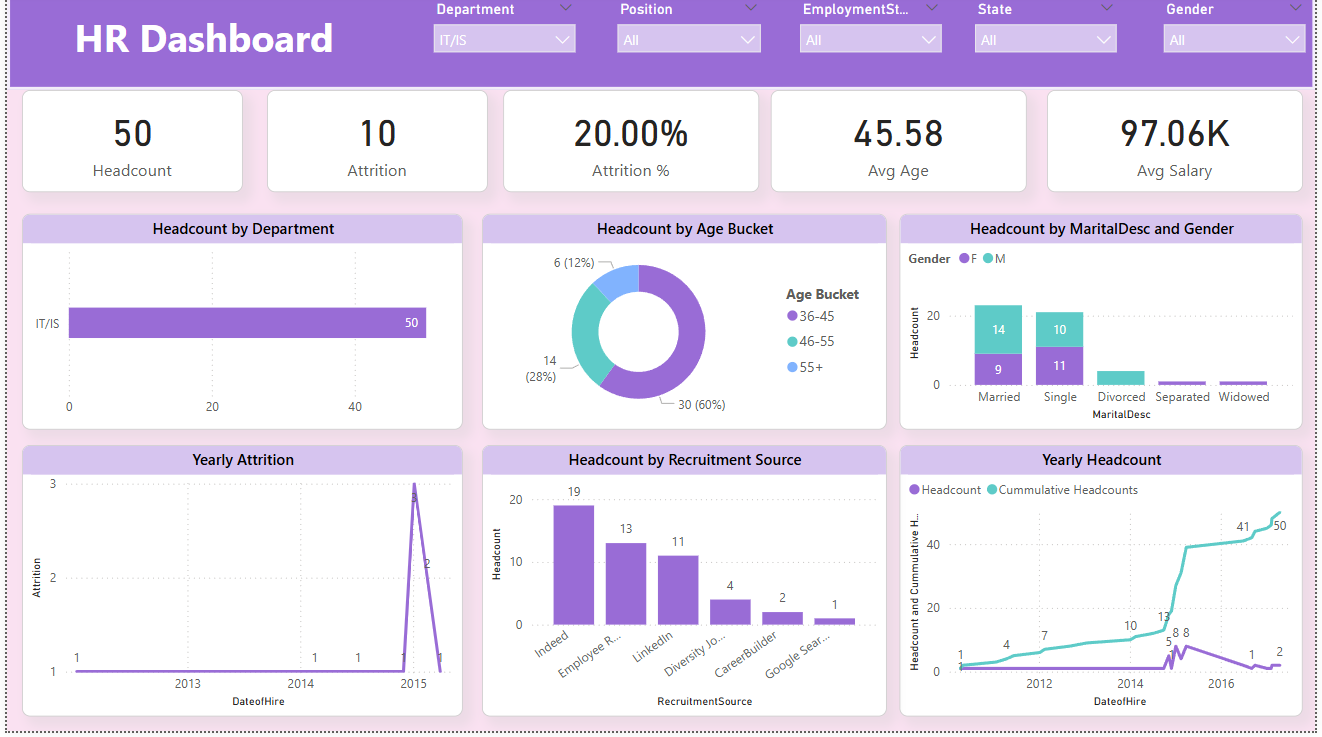

Layout of this report page (visuals, bound fields, positions):
{"tool":"powerbi","page":{"name":"Page 1","canvas":[1280,720],"ordinal":0},"visuals":[{"type":"shape","box":[0,0,1280,92.9],"z":0},{"type":"card","fields":{"Values":["Measure.Headcount"]},"box":[14.3,92.9,215.7,100],"z":1000},{"type":"card","fields":{"Values":["Measure.Attrition"]},"box":[254.3,92.9,215.7,100],"z":2000},{"type":"card","fields":{"Values":["Measure.Attrition %"]},"box":[485.7,92.9,250,100],"z":3000},{"type":"card","fields":{"Values":["Measure.Avg Salary"]},"box":[1017.1,92.9,250,100],"z":4000},{"type":"card","fields":{"Values":["Measure.Avg Age"]},"box":[747.1,92.9,250,100],"z":5000},{"type":"clusteredBarChart","fields":{"Y":["Measure.Headcount"],"Category":["HRDataset_v14.Department"]},"box":[14.3,214.3,431.4,211.4],"z":6000},{"type":"donutChart","fields":{"Category":["HRDataset_v14.Age Bucket"],"Y":["Measure.Headcount"]},"box":[464.3,214.3,395.7,211.4],"z":7000},{"type":"columnChart","fields":{"Category":["HRDataset_v14.MaritalDesc"],"Y":["Measure.Headcount"],"Series":["HRDataset_v14.Gender"]},"box":[872.9,214.3,394.3,211.4],"z":8000},{"type":"lineChart","title":" Yearly Headcount ","fields":{"Category":["HRDataset_v14.DateofHire"],"Y":["Measure.Headcount","Measure.Cummulative Headcounts"]},"box":[872.9,440,394.3,265.7],"z":9000},{"type":"lineChart","title":"Yearly Attrition ","fields":{"Y":["Measure.Attrition"],"Category":["HRDataset_v14.DateofHire"]},"box":[14.3,440,431.4,265.7],"z":10000},{"type":"columnChart","title":"Headcount by Recruitment Source","fields":{"Y":["Measure.Headcount"],"Category":["HRDataset_v14.RecruitmentSource"]},"box":[464.3,440,395.7,265.7],"z":11000},{"type":"slicer","fields":{"Values":["HRDataset_v14.Department"]},"box":[407.1,0,158.6,71.4],"z":12000},{"type":"slicer","fields":{"Values":["HRDataset_v14.Position"]},"box":[587.1,0,160,71.4],"z":13000},{"type":"slicer","fields":{"Values":["HRDataset_v14.EmploymentStatus"]},"box":[765.7,0,158.6,71.4],"z":14000},{"type":"slicer","fields":{"Values":["HRDataset_v14.State"]},"box":[937.1,0,158.6,71.4],"z":15000},{"type":"slicer","fields":{"Values":["HRDataset_v14.Gender"]},"box":[1121.4,0,158.6,71.4],"z":16000},{"type":"textbox","box":[61.4,11.4,335.7,60],"z":17000}]}

Visuals, with their boxes in screenshot pixels (x1, y1, x2, y2), scaled from the page's 1280x720 canvas onto the 1322x737 screenshot:
shape: 0:0:1321:95
card - Measure.Headcount: 15:95:238:197
card - Measure.Attrition: 263:95:485:197
card - Measure.Attrition %: 502:95:760:197
card - Measure.Avg Salary: 1050:95:1309:197
card - Measure.Avg Age: 772:95:1030:197
clusteredBarChart - Measure.Headcount x HRDataset_v14.Department: 15:219:460:436
donutChart - HRDataset_v14.Age Bucket x Measure.Headcount: 480:219:888:436
columnChart - HRDataset_v14.MaritalDesc x Measure.Headcount: 902:219:1309:436
" Yearly Headcount " lineChart: 902:450:1309:722
"Yearly Attrition " lineChart: 15:450:460:722
"Headcount by Recruitment Source" columnChart: 480:450:888:722
slicer - HRDataset_v14.Department: 420:0:584:73
slicer - HRDataset_v14.Position: 606:0:772:73
slicer - HRDataset_v14.EmploymentStatus: 791:0:955:73
slicer - HRDataset_v14.State: 968:0:1132:73
slicer - HRDataset_v14.Gender: 1158:0:1321:73
textbox: 63:12:410:73
